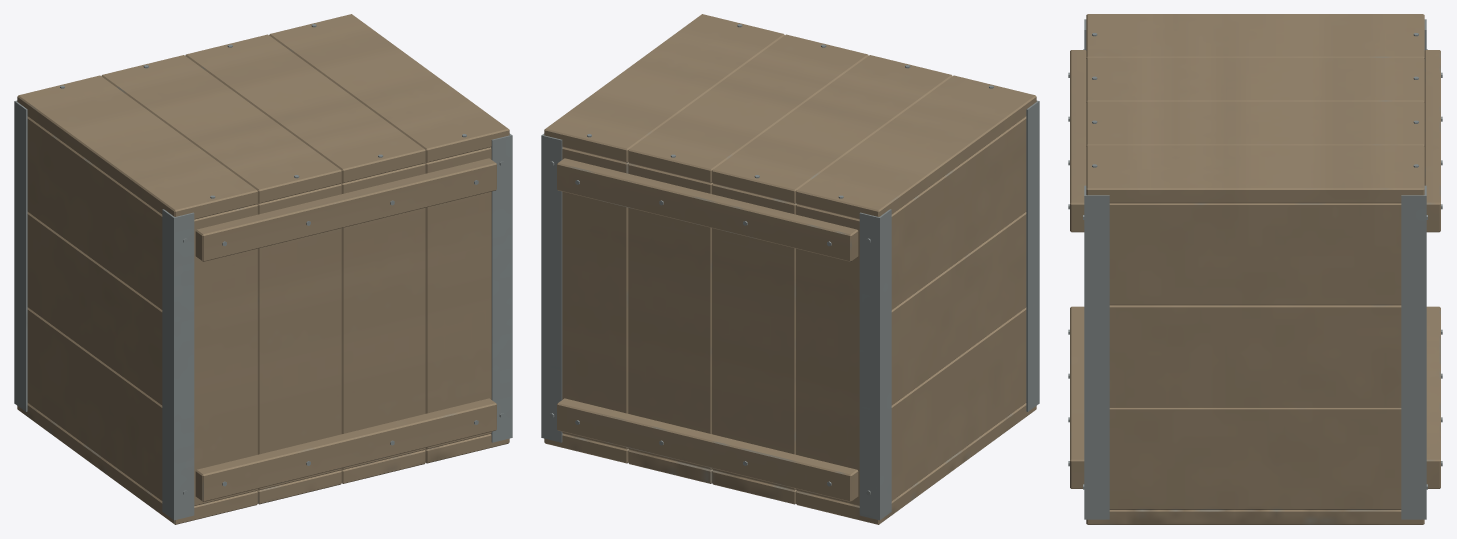
The model's file is wooden_crate_small.glb.
The picture shows the model from 3 angles, left to right: view 1: azimuth 30°, elevation 25°; view 2: azimuth 150°, elevation 25°; view 3: azimuth 270°, elevation 25°; orthographic projection. The views are drawn at different scales.
Visible parts, largest first — view 1: WoodenCrateSmall; view 2: WoodenCrateSmall; view 3: WoodenCrateSmall.
Boxes of the visible parts, x1,y1,x2,y2 form: WoodenCrateSmall: [14, 14, 512, 524]; WoodenCrateSmall: [541, 14, 1039, 524]; WoodenCrateSmall: [1068, 14, 1442, 524].
Size of what is drawn, in the model's own units: 0.45 by 0.4016 by 0.4026.
1 material, 1 textured.
